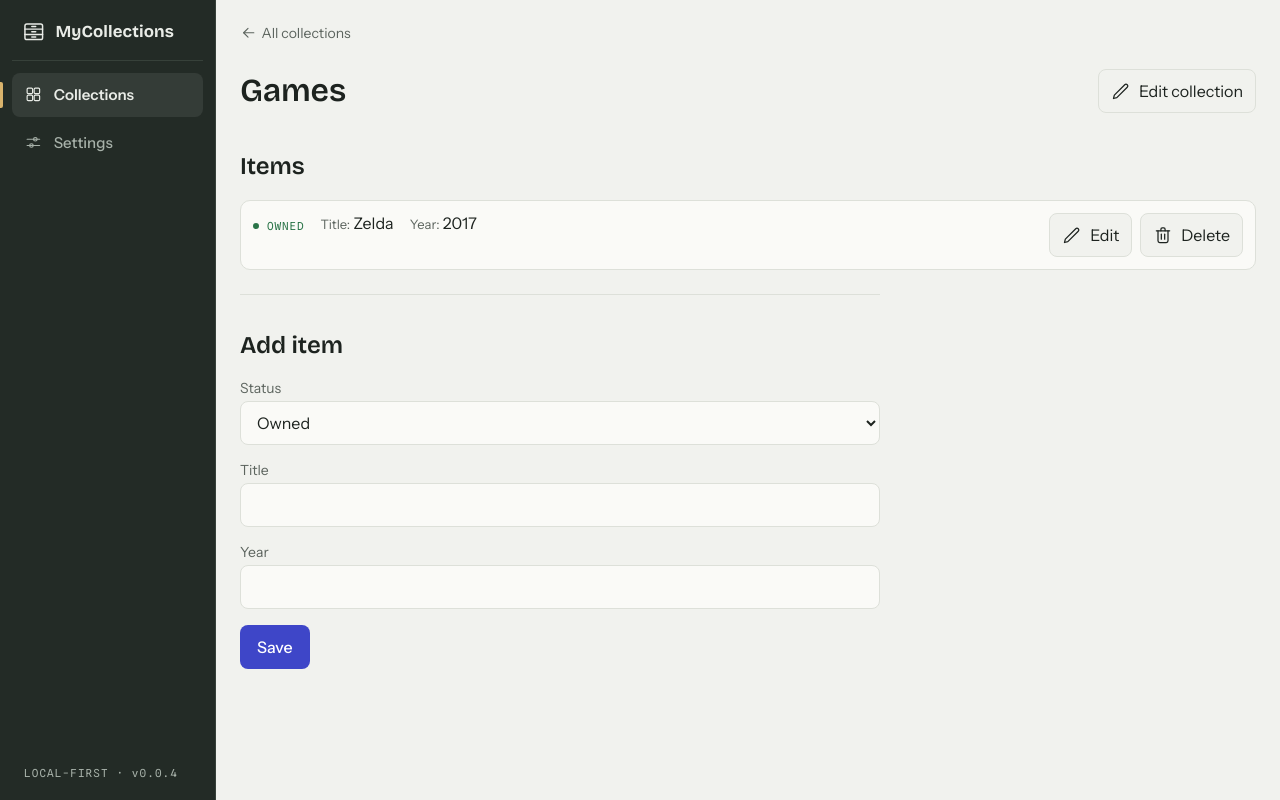
Scenario: CollectionDetailPage › undo toast › restores the item when undo is pressed, and takes the toast away
This screenshot has width=1280, height=800.
Expected: the text "Zelda" is shown, [353, 213, 394, 233]
Click the button "Delete" at (1192,235), box [1140, 213, 1243, 257]
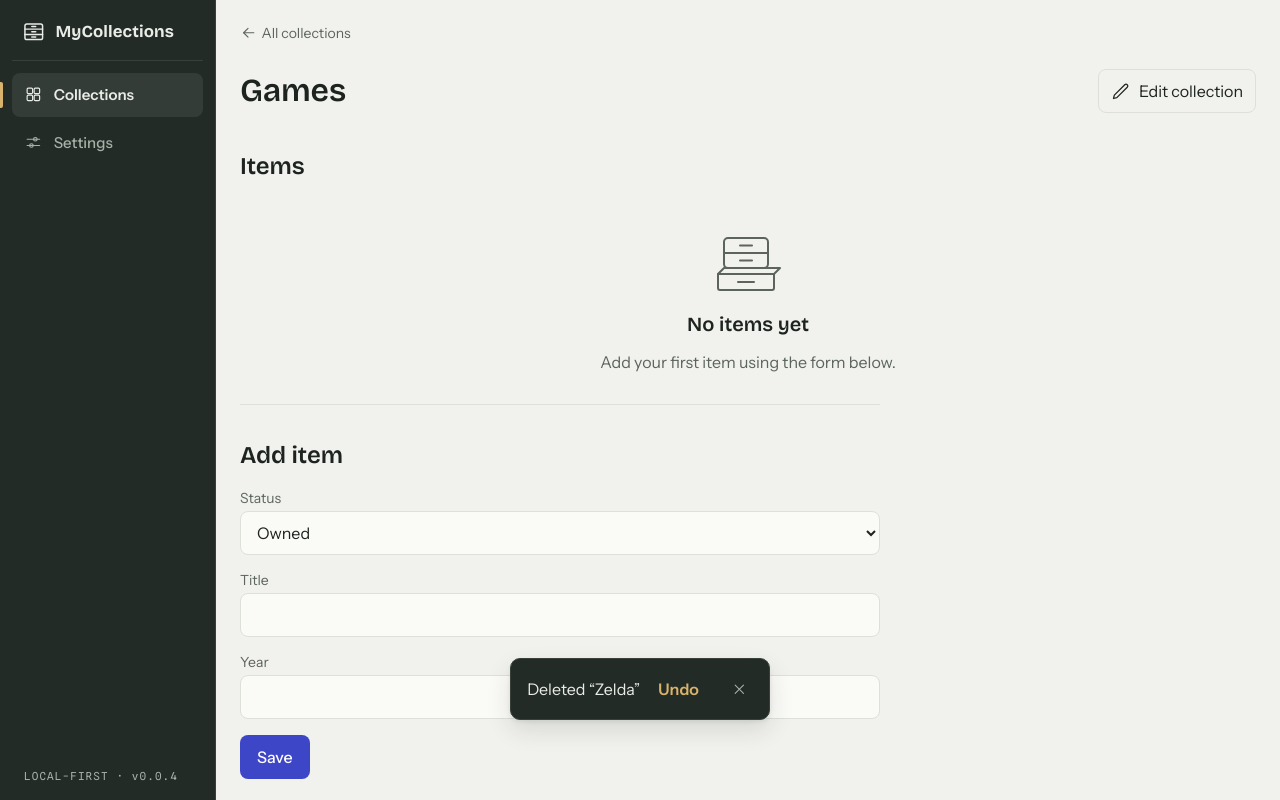
Click the button "Undo" at (679,689), box [652, 667, 705, 711]
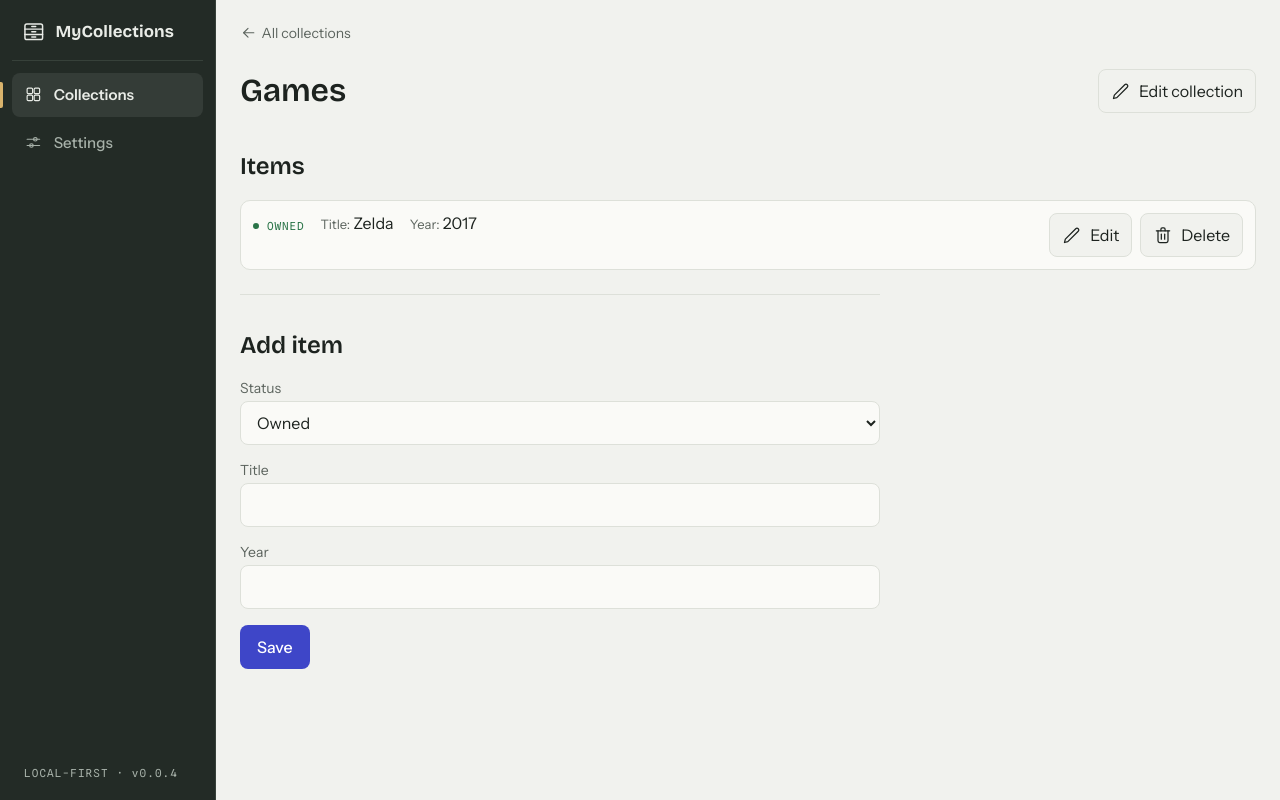
Expected: the element with class "undo-toast" is gone
Expected: the text "Zelda" is shown, [353, 213, 394, 233]
